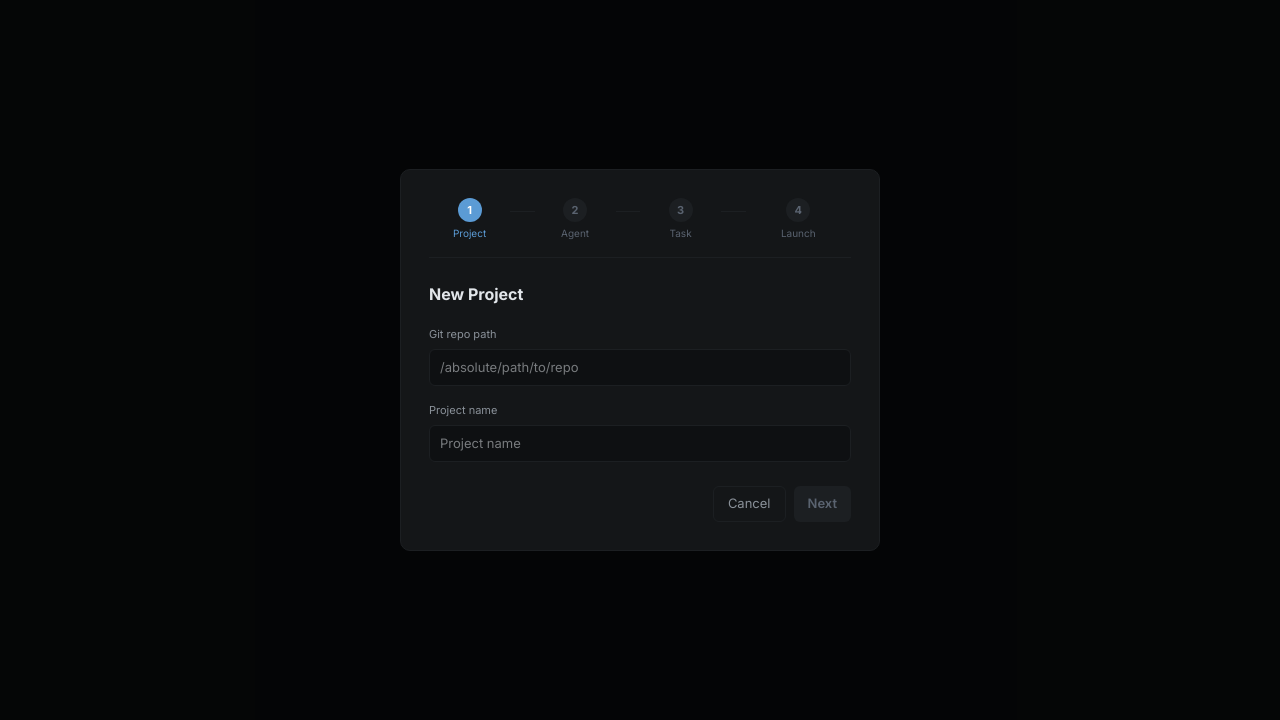
Test case: NewProjectWizard › shows No providers configured when GET /api/providers returns empty
Type "/home/user/my-repo" into the field with placeholder "/absolute/path/to/repo" at (640, 368), box [429,349,851,386]
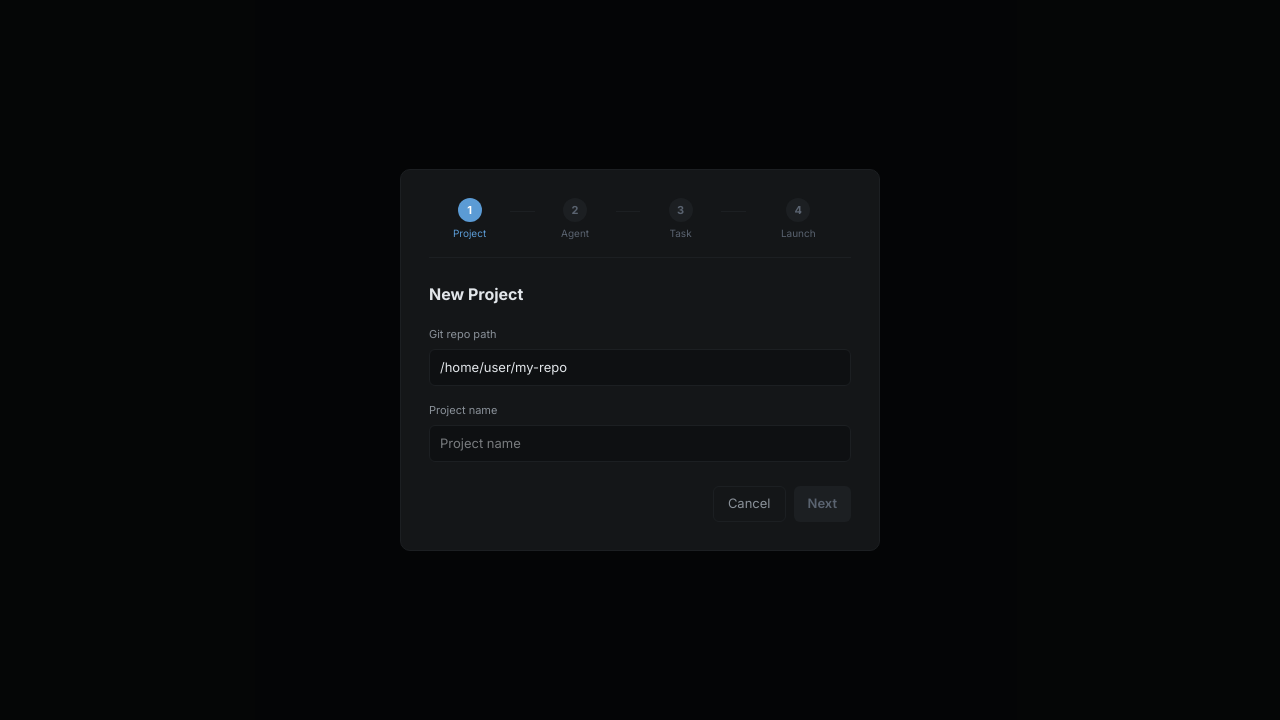
Leave the field with placeholder "/absolute/path/to/repo", box [429,349,851,386]
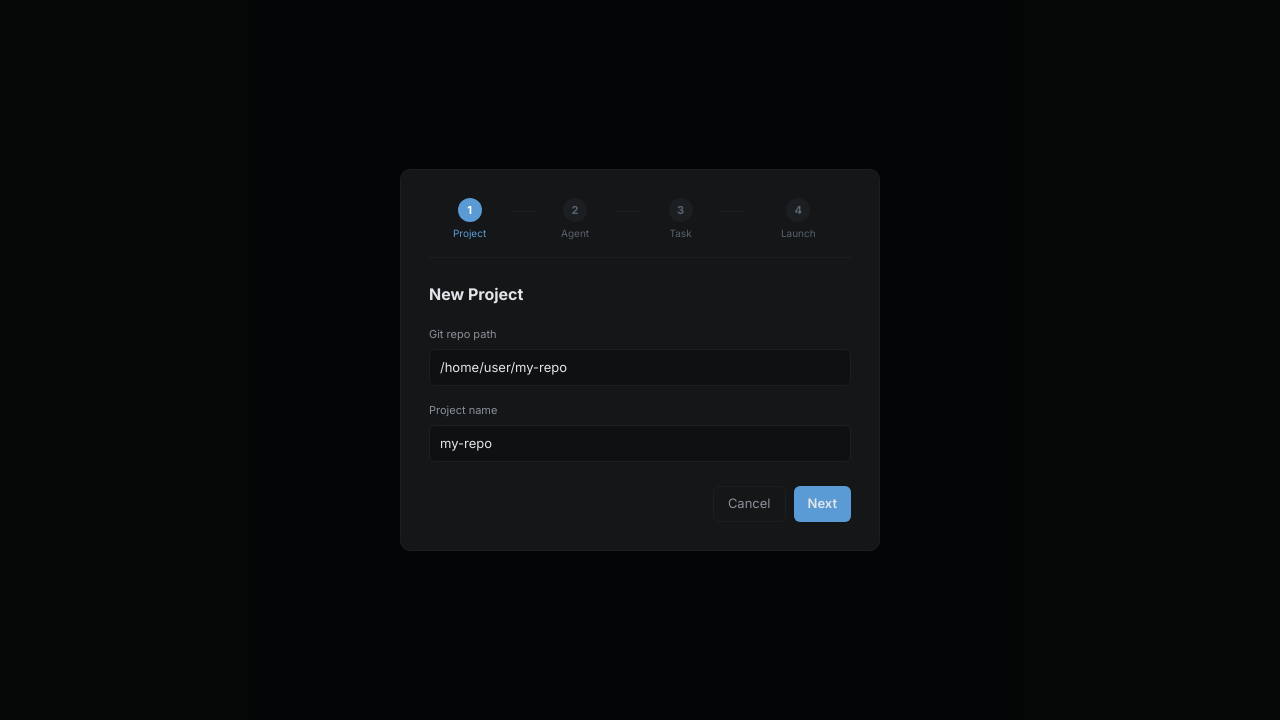
Expected: the button "Next" is enabled
Click the button "Next" at (822, 504), box [794,486,851,522]
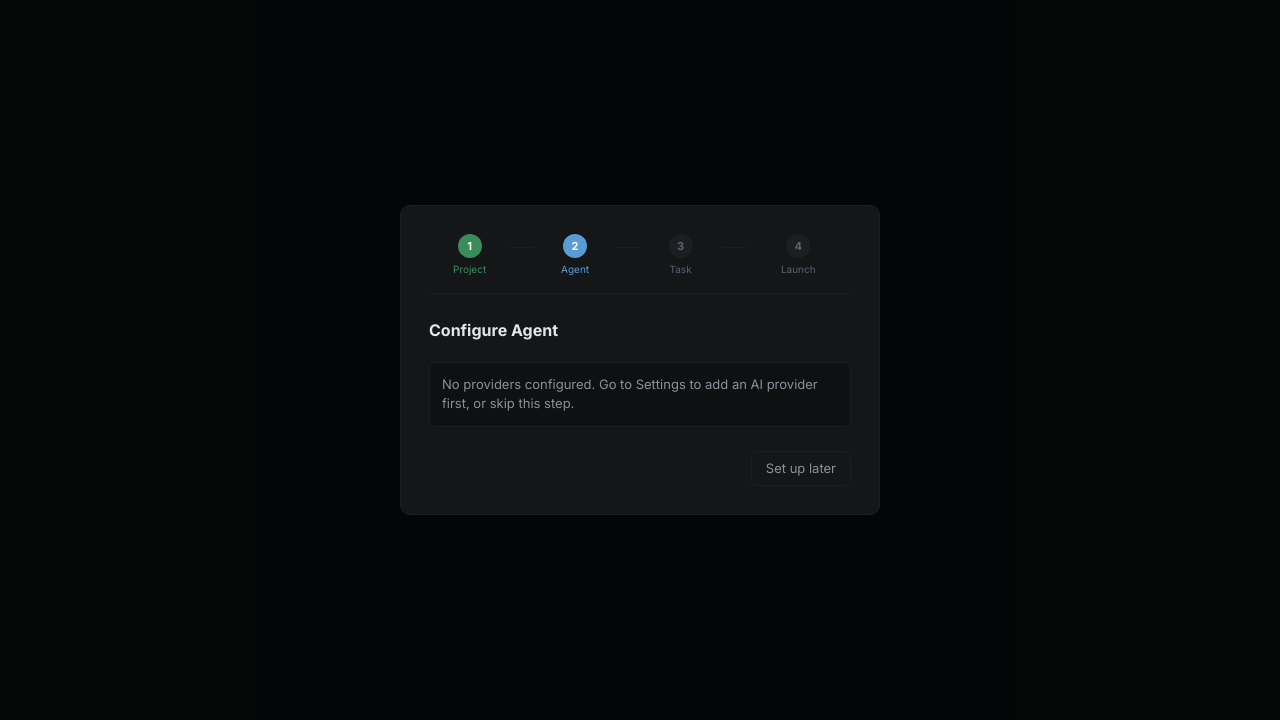
Expected: the text "No providers configured" is shown, [442,376,818,411]
